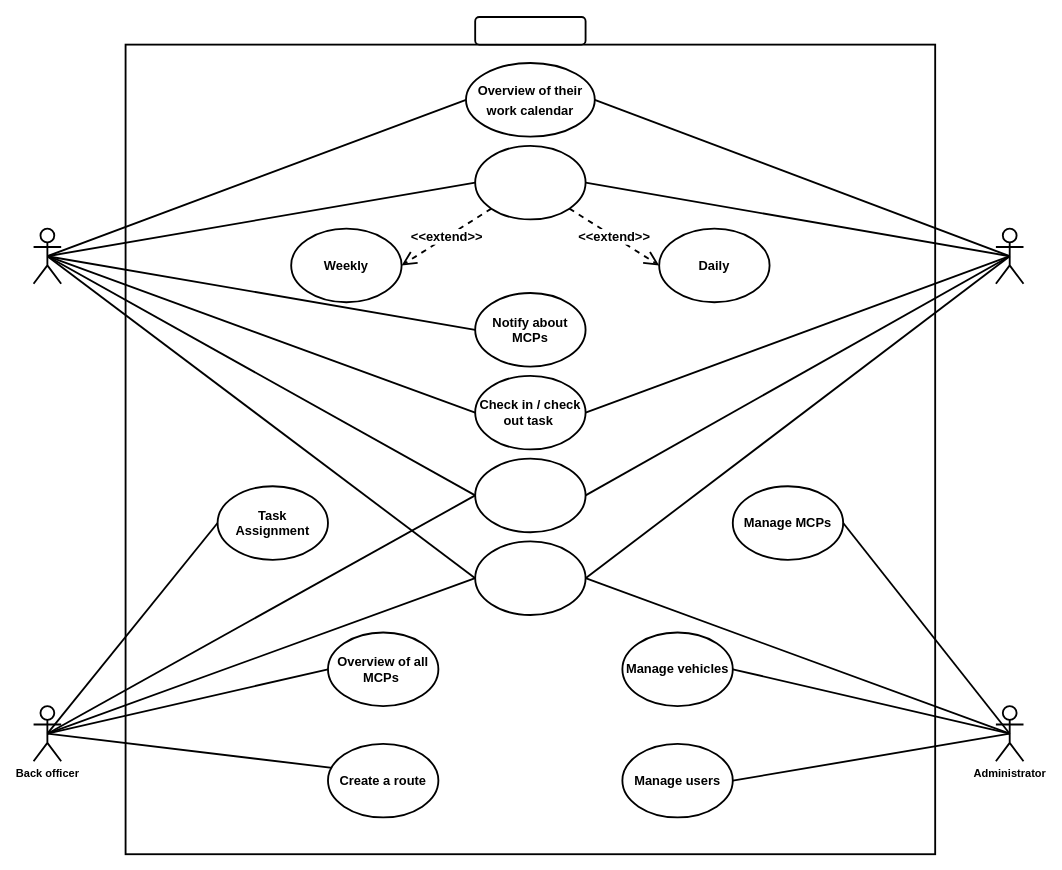
Image size: 1062x870. Some labels were removed from this diagram. The shapes that lost their labels are listed below. From the top down, each one's centre as x and y in pixels, then its label:
At point 530,30: "UWC 2.0".
At point 530,182: "View detail of their task".
At point 47,255: "Collector".
At point 1009,255: "Janitor".
At point 530,495: "Communicate message".
At point 530,577: "Login".
